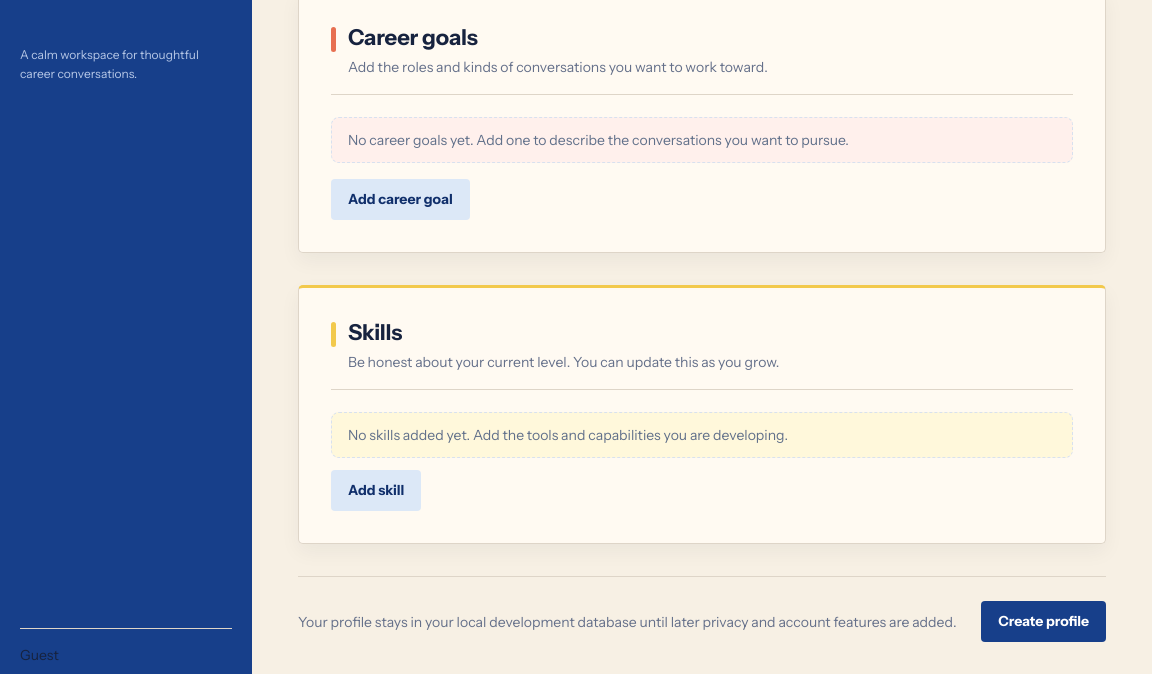
Test: student profile onboarding › shows client-side validation before submitting
(page scrolled)
Click the button "Create profile": (1044, 622) top-left (981, 601), bottom-right (1106, 642)
(page scrolled)
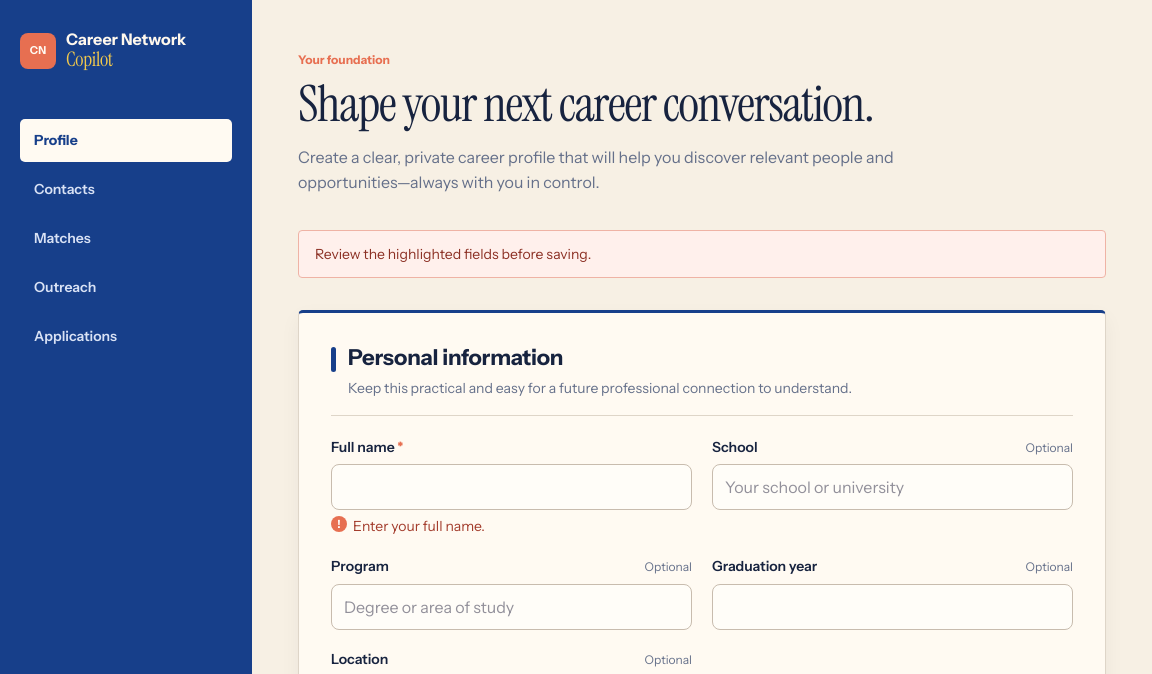
Now the text "Enter your full name." is shown, box top-left (353, 517), bottom-right (485, 535)
Now the text "Review the highlighted fields before saving." is shown, box top-left (298, 230), bottom-right (1106, 278)
